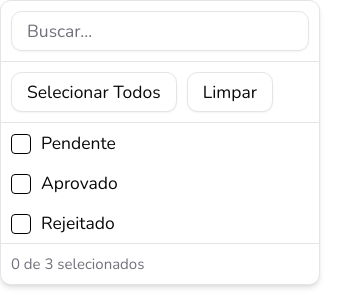
BaseMultiSelectFilter › Search Functionality › search input filters visible options
The width and height of the screenshot is (338, 306).
Step 1. Type "Pend" into the field with placeholder "Buscar..." → coordinates (160, 31), box [11,11,309,51]
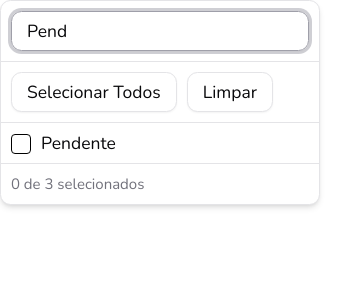
expect the text "Pendente" is shown: met, box [41,130,116,156]
expect the checkbox "Aprovado" is gone: met
expect the checkbox "Rejeitado" is gone: met
